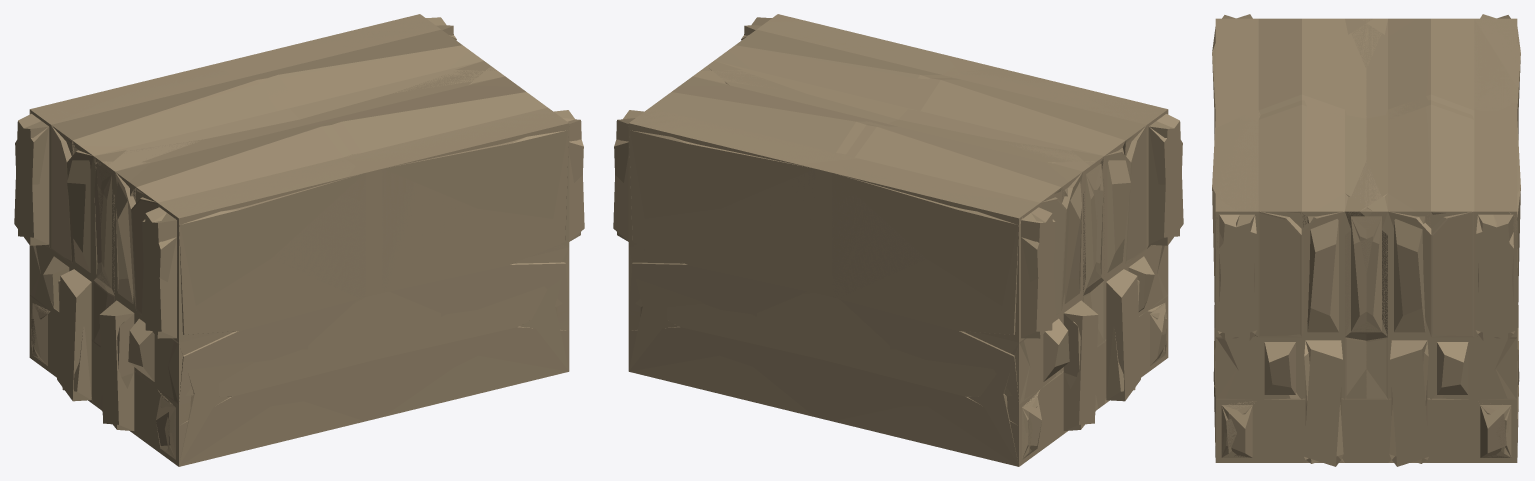
Rendered from wall2.fbx.
3 renders of one model, left to right at view 1: azimuth 30°, elevation 25°; view 2: azimuth 150°, elevation 25°; view 3: azimuth 270°, elevation 25°, orthographic.
Parts seen in each view (by area): view 1: Cube.002; view 2: Cube.002; view 3: Cube.002.
Boxes of the visible parts, box(x1,y1,x2,y2) form: Cube.002: box(14, 14, 584, 466); Cube.002: box(613, 14, 1183, 466); Cube.002: box(1212, 14, 1520, 466).
Bounding box in the file's own units: 424 × 253 × 265.
